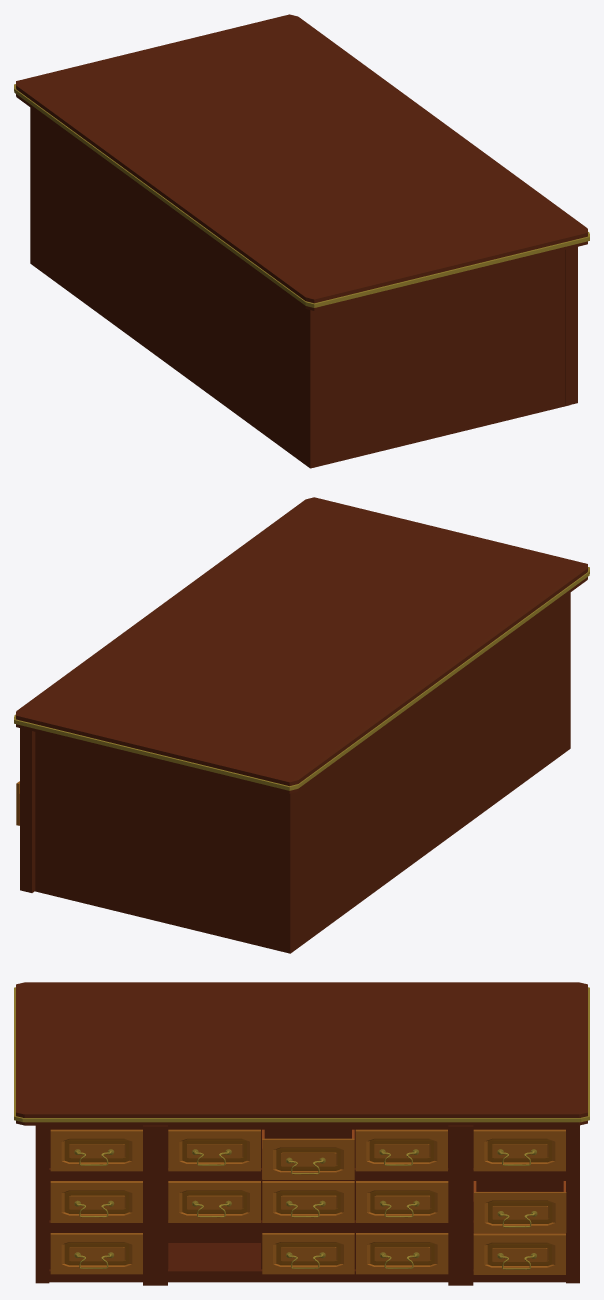
The model's file is AlchemyTable.fbx.
3 renders of one model, top to bottom at view 1: azimuth 30°, elevation 25°; view 2: azimuth 150°, elevation 25°; view 3: azimuth 270°, elevation 25°, orthographic. The views are drawn at different scales.
Parts seen in each view (by area): view 1: MainPart.001; view 2: MainPart.001; view 3: MainPart.001.
Boxes of the visible parts, x1,y1,x2,y2 form: MainPart.001: (14, 14, 589, 468); MainPart.001: (14, 497, 589, 953); MainPart.001: (14, 982, 589, 1285).
Size of the model in its own units: 2.64 by 1.47 by 4.48.
